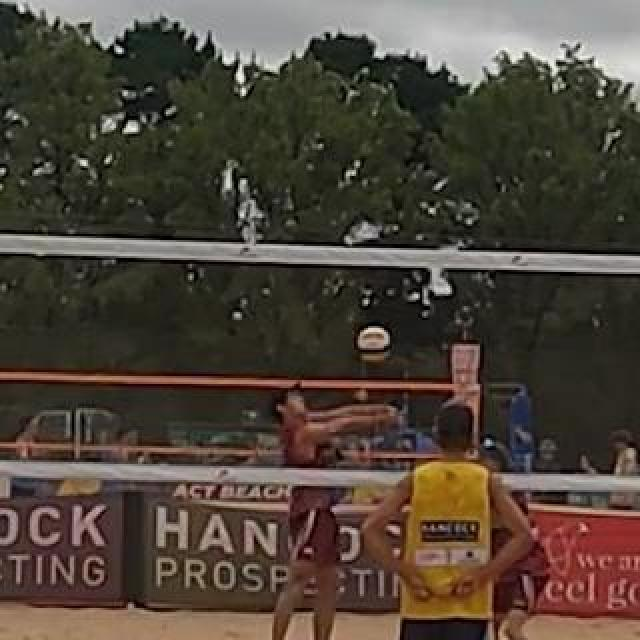volleyball: (357, 327, 391, 363)
